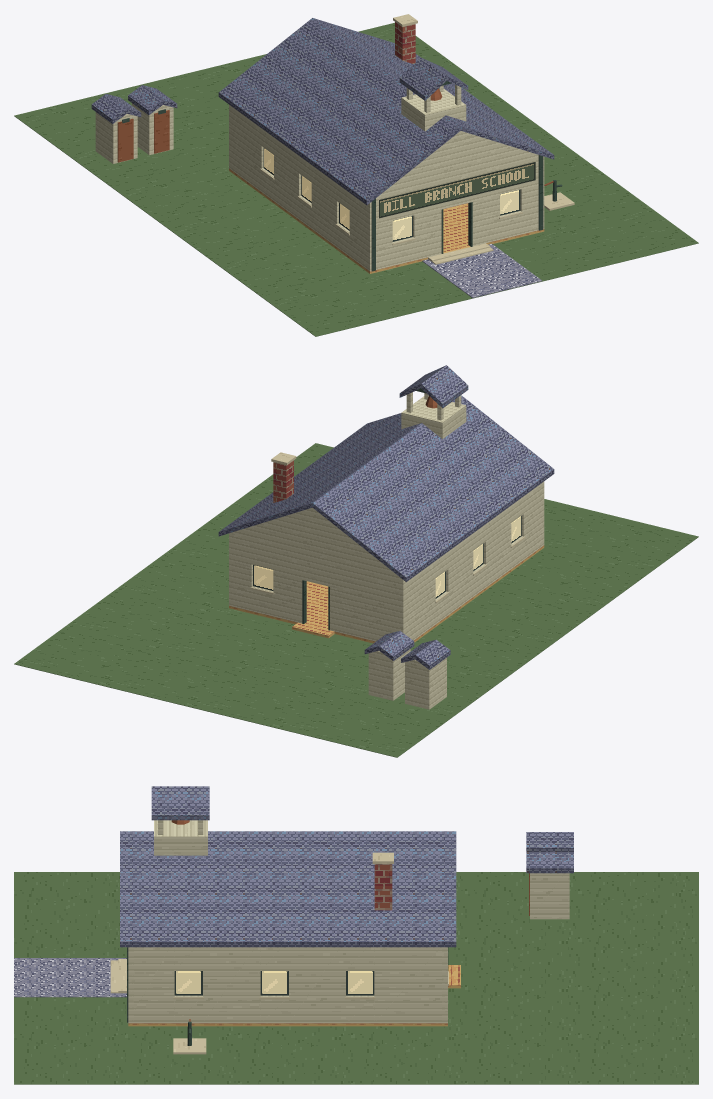
File: mill-branch-active-mid.glb
3 views of the same model, one above another, from view 1: azimuth 30°, elevation 25°; view 2: azimuth 150°, elevation 25°; view 3: azimuth 270°, elevation 25° (orthographic). The views are drawn at different scales.
Visible parts, largest first — view 1: lot, building_shell, sign_name; view 2: lot, building_shell; view 3: lot, building_shell.
Boxes of the visible parts, box(x1,y1,x2,y2) form: lot: box(14, 22, 698, 336); building_shell: box(218, 14, 554, 273); sign_name: box(379, 162, 535, 218); lot: box(14, 443, 698, 757); building_shell: box(218, 365, 554, 643); lot: box(14, 832, 698, 1084); building_shell: box(110, 786, 460, 1026).
Size of what is drawn, in the model's own units: 22 by 9.3 by 30.
Materials: 11 (11 with a texture image).
